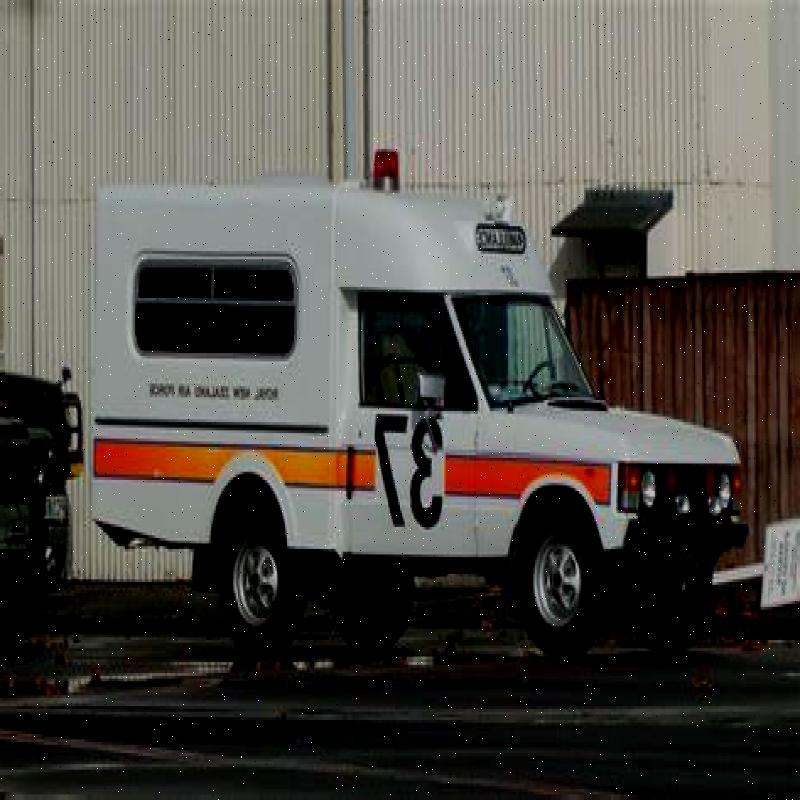AmbulanceSiren: (360, 133, 418, 214)
